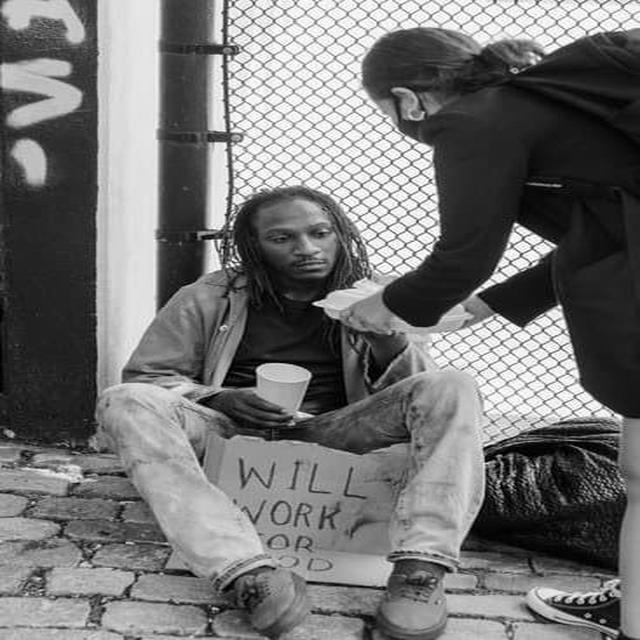Sadness: (260, 195, 337, 281)
